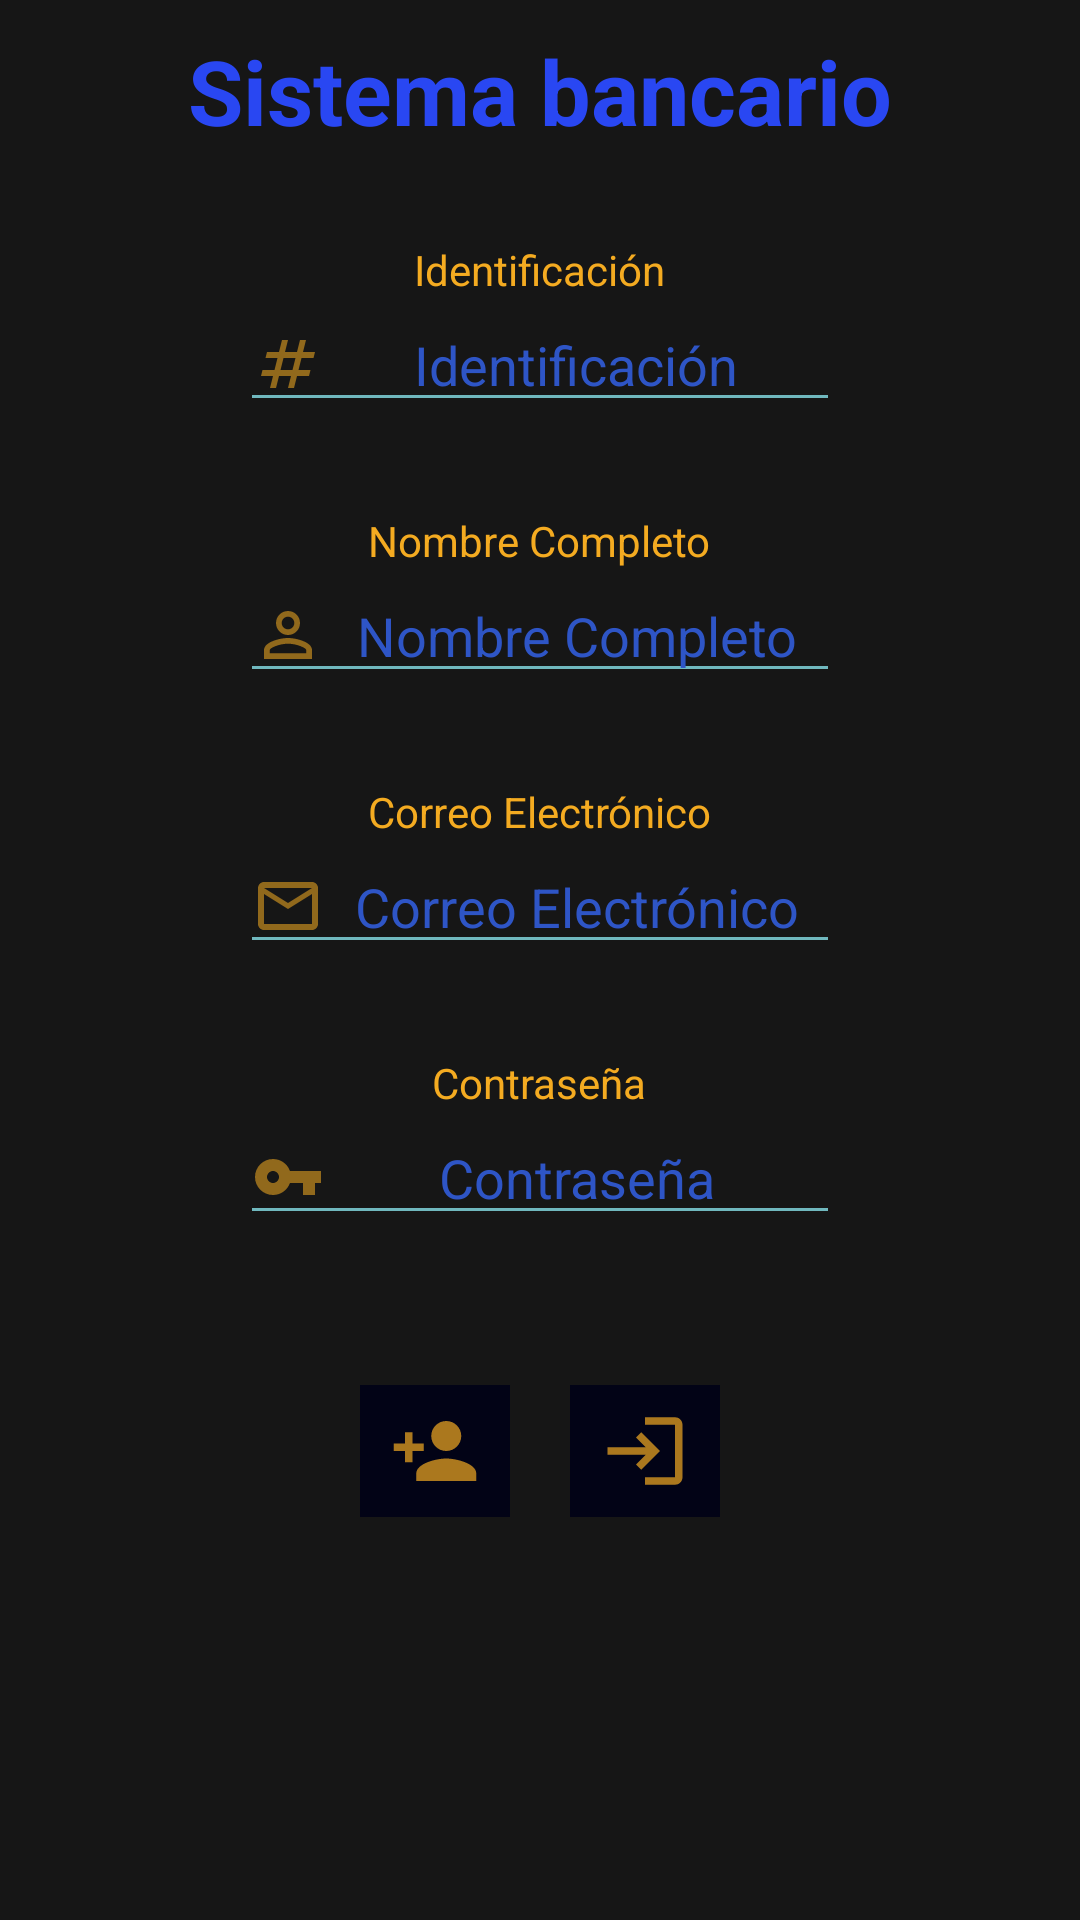

Icon bounding boxes for this 1080 × 1920 phone screenshot, format (x1, y1, x2, y2):
login: (570, 1385, 720, 1517)
person add: (360, 1385, 510, 1517)
